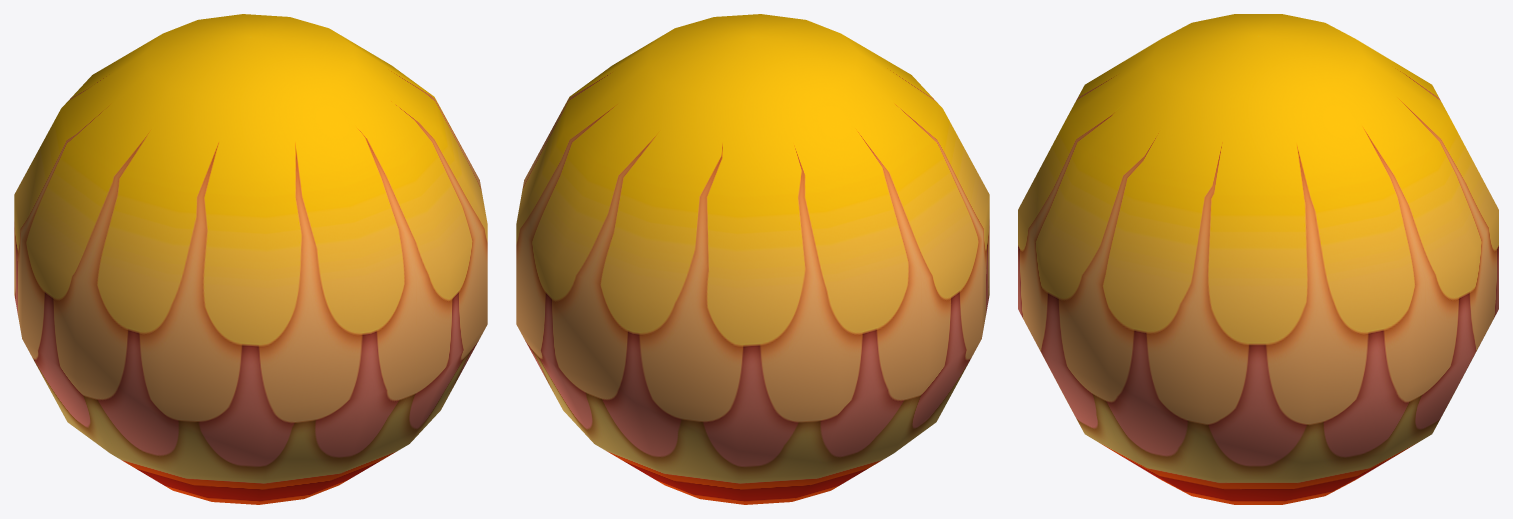
File: ball.FBX
3 views of the same model, side by side, from view 1: azimuth 30°, elevation 25°; view 2: azimuth 150°, elevation 25°; view 3: azimuth 270°, elevation 25° (orthographic).
Visible parts, largest first — view 1: Ball; view 2: Ball; view 3: Ball.
Part boxes in pixels (box(x1,y1,x2,y2)): Ball: box(14, 14, 487, 504); Ball: box(516, 14, 989, 504); Ball: box(1018, 14, 1498, 504).
Size of the model in its own units: 5703 by 6000 by 5850.
